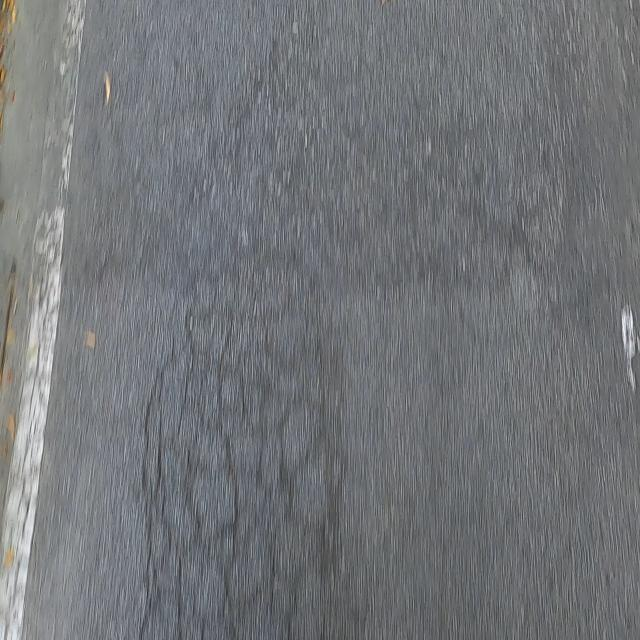Retak-Buaya: (135, 52, 343, 635)
